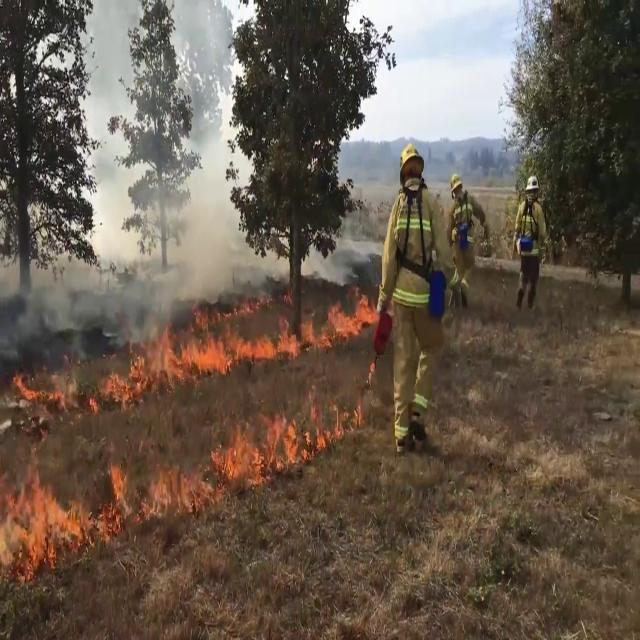Fire: (0, 446, 132, 576), (102, 290, 268, 378), (280, 283, 382, 367), (212, 405, 308, 485), (4, 360, 80, 434), (144, 458, 210, 518)
Smoke: (43, 72, 253, 306)
